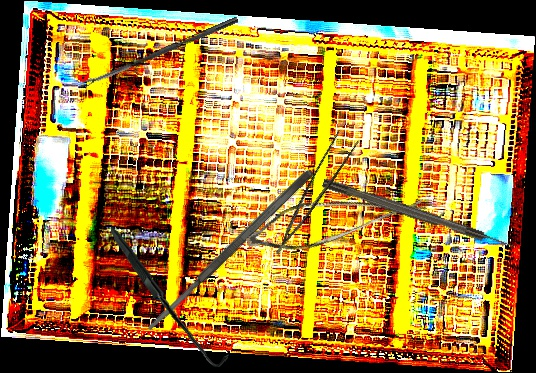Hook Surgical: (104, 226, 235, 368), (321, 176, 516, 253)
Micro Scissor: (241, 157, 430, 279)
Spatula Surgical: (142, 166, 316, 336)
Surgical Spoon: (82, 15, 239, 88)
Tissue Forceps: (257, 126, 364, 255)
